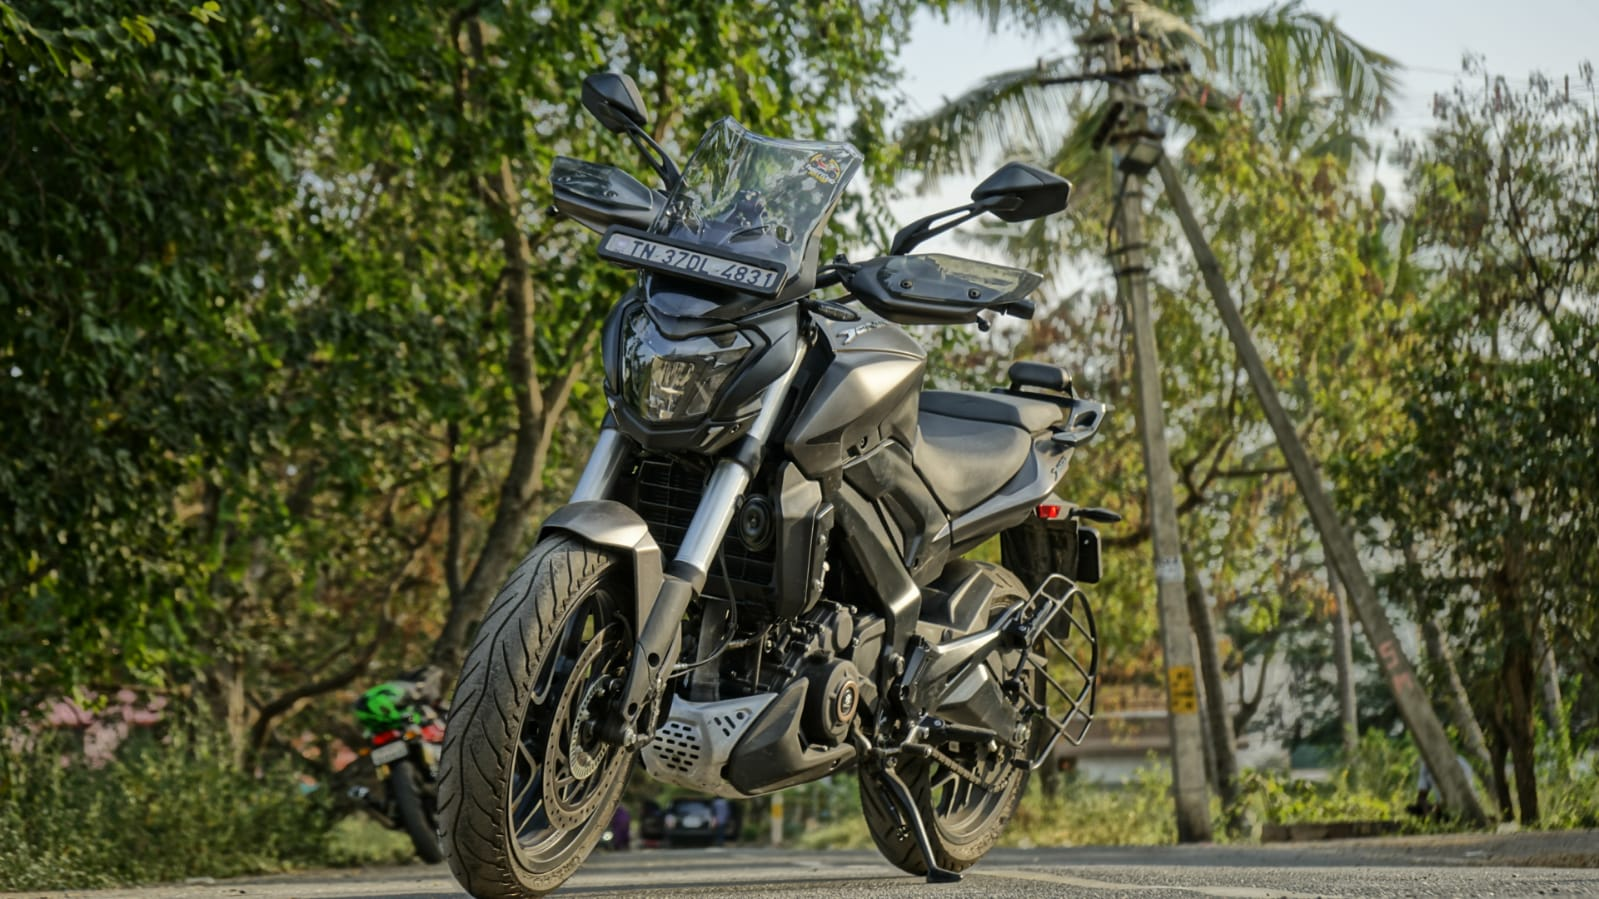bike: (420, 69, 1155, 899)
numberplate: (586, 203, 818, 319)
